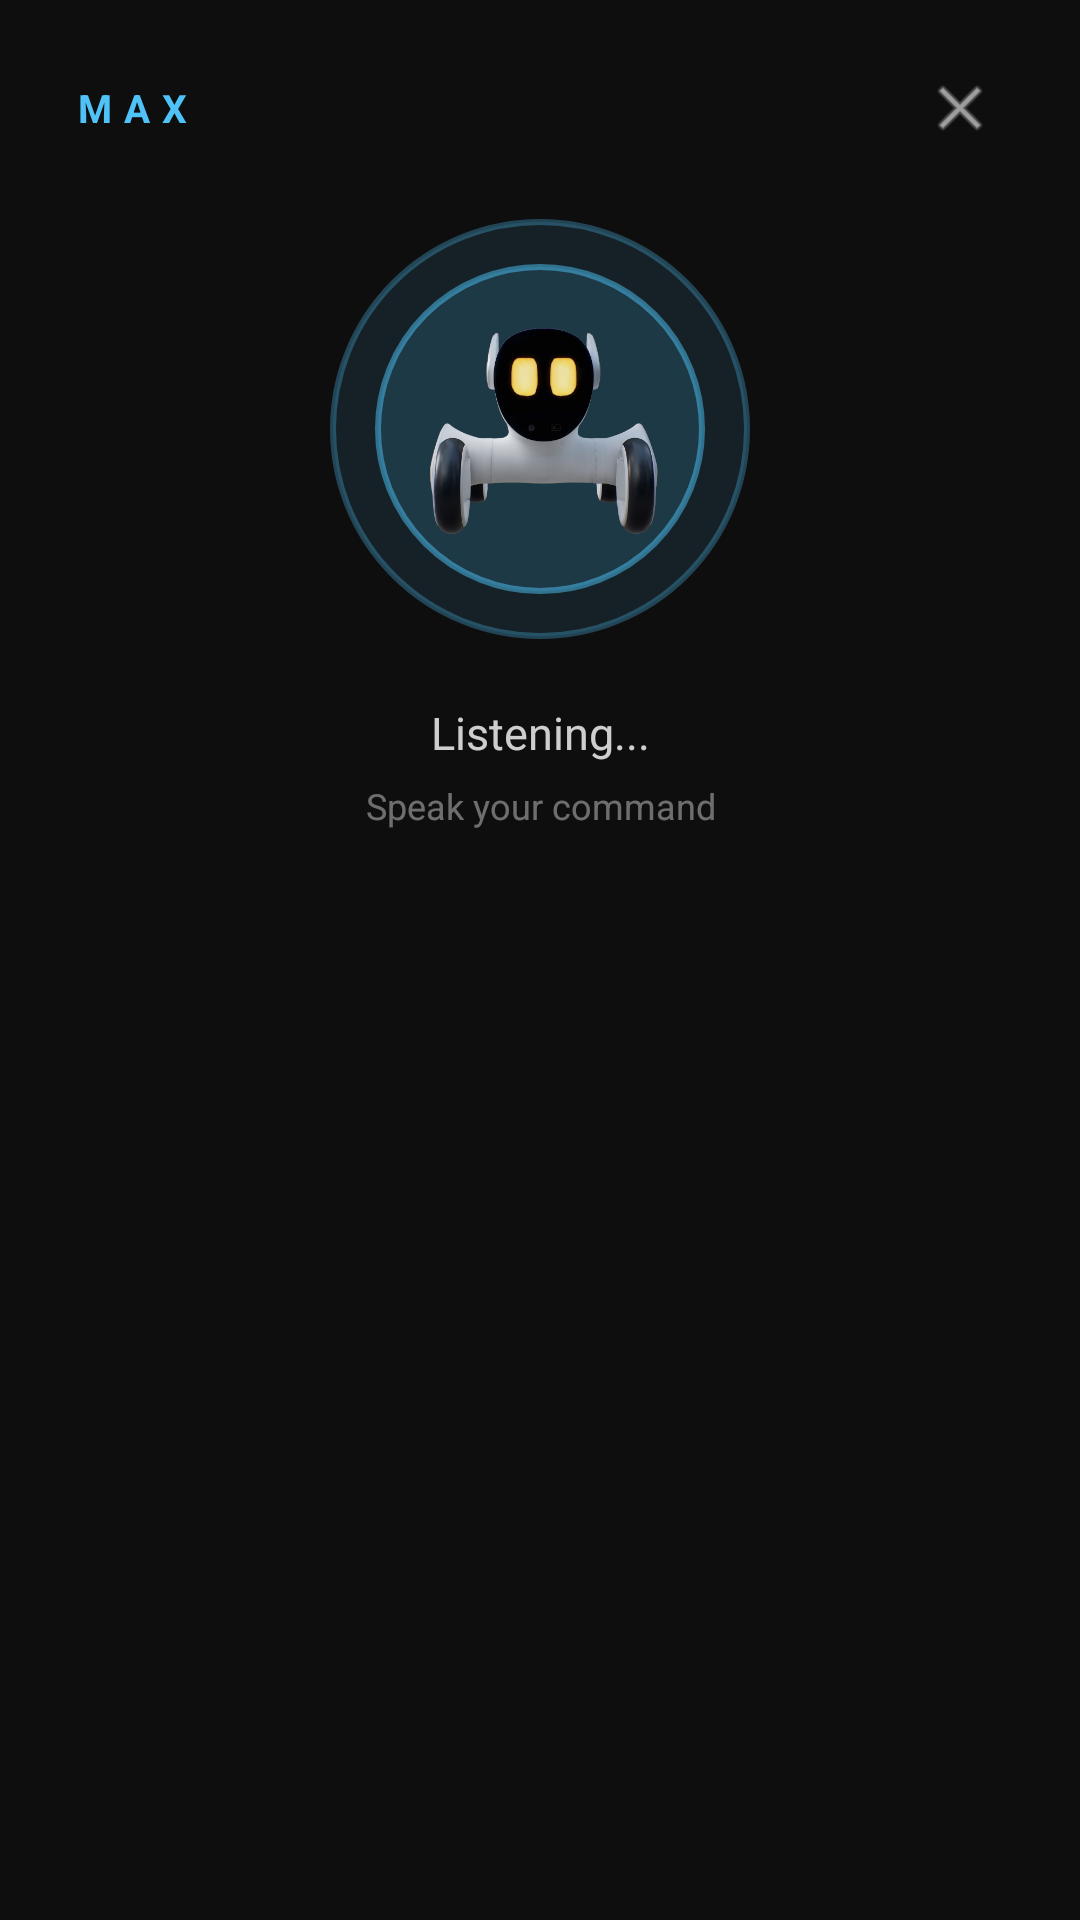

Where to tap for icons on this 1080x1920 app screen, as (x=x, y=y):
close clear cancel: (x=960, y=108)
